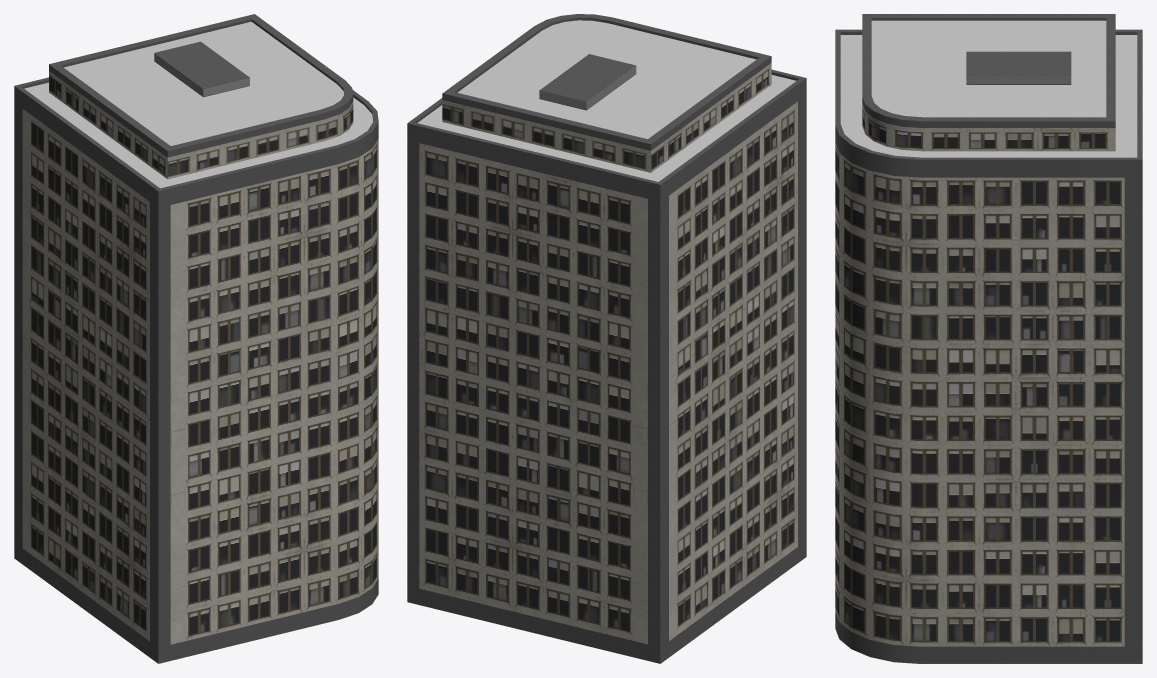
Rendered from SM_Building1.FBX.
The picture shows the model from 3 angles, left to right: view 1: azimuth 30°, elevation 25°; view 2: azimuth 150°, elevation 25°; view 3: azimuth 270°, elevation 25°; orthographic projection. The views are drawn at different scales.
Visible parts, largest first — view 1: SM_Building1; view 2: SM_Building1; view 3: SM_Building1.
Part boxes in pixels (bbox=[...]): SM_Building1: bbox=[14, 14, 378, 663]; SM_Building1: bbox=[407, 14, 806, 663]; SM_Building1: bbox=[835, 14, 1142, 663].
Size of what is drawn, in the model's own units: 6353 by 6353 by 12252.
